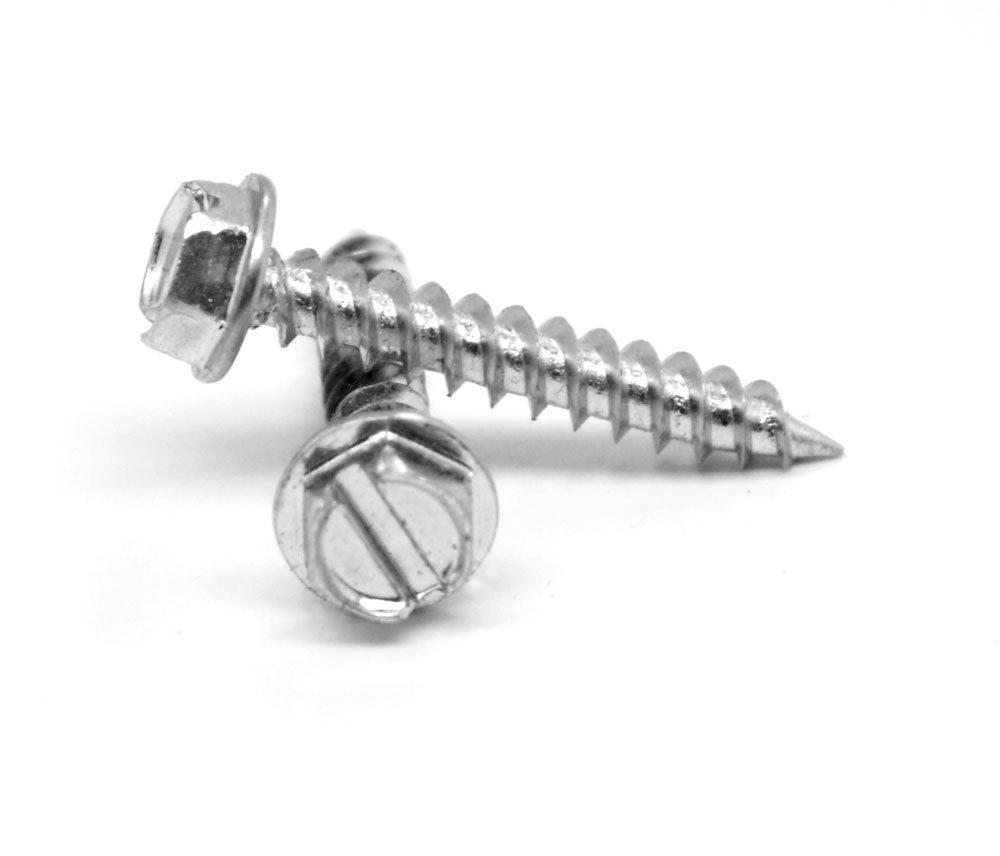slotted: (276, 412, 499, 636)
